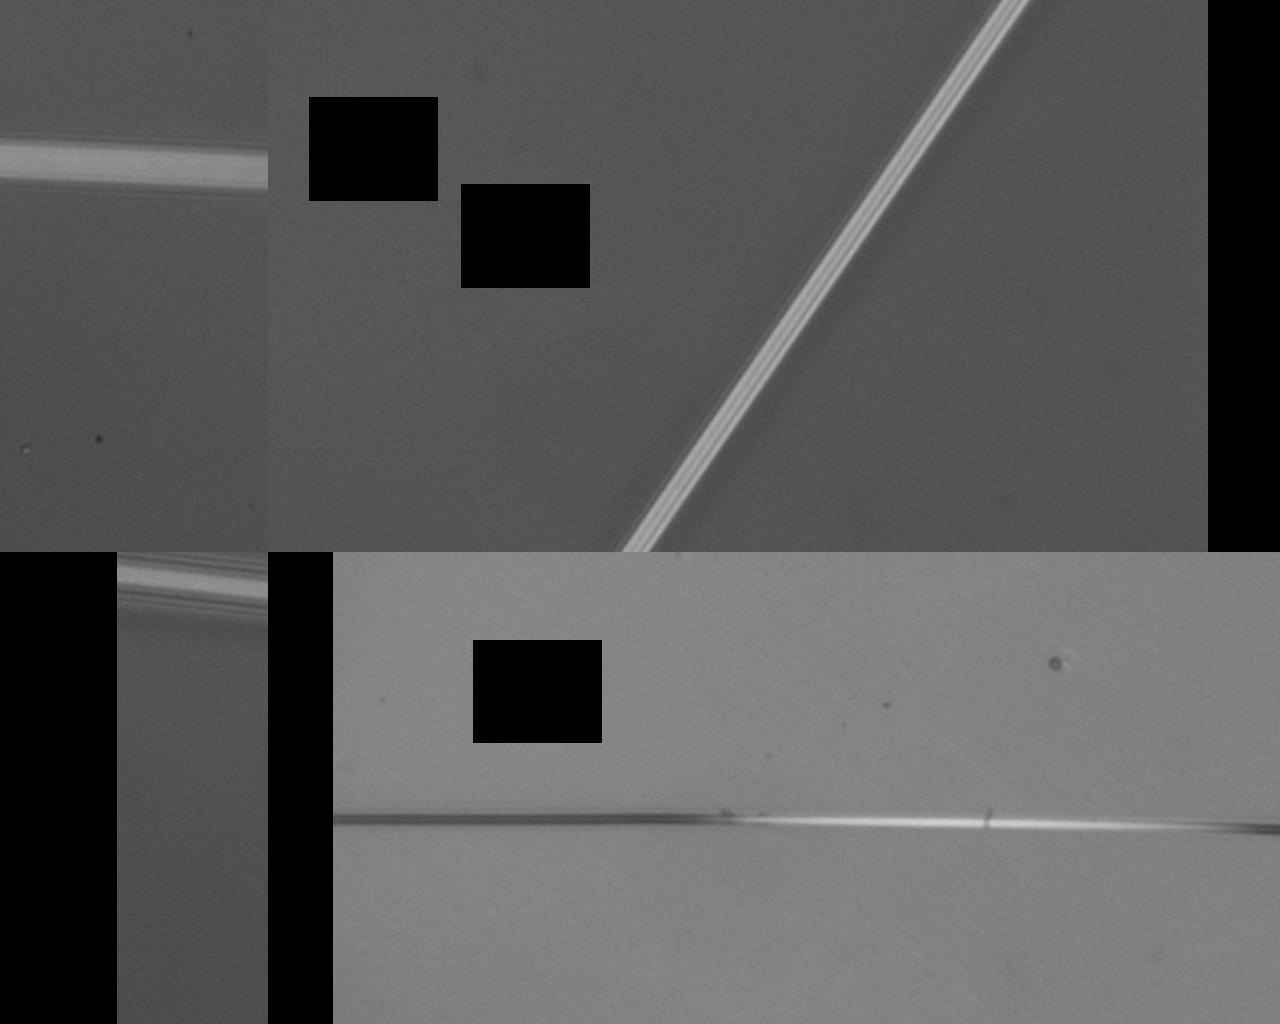fiber: (704, 0, 982, 501), (316, 501, 471, 1024), (867, 501, 921, 1024)
